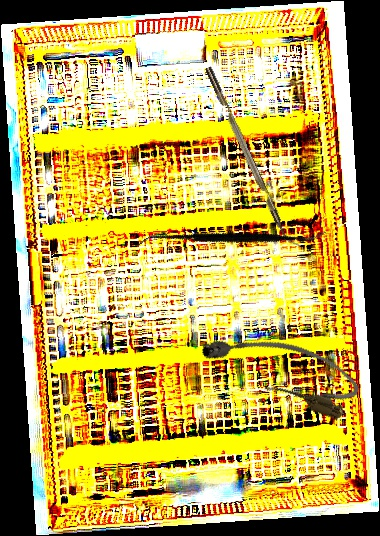Cannula: (195, 311, 366, 425)
Chopper: (204, 62, 302, 253)
Spatula Surgical: (136, 154, 327, 324)
